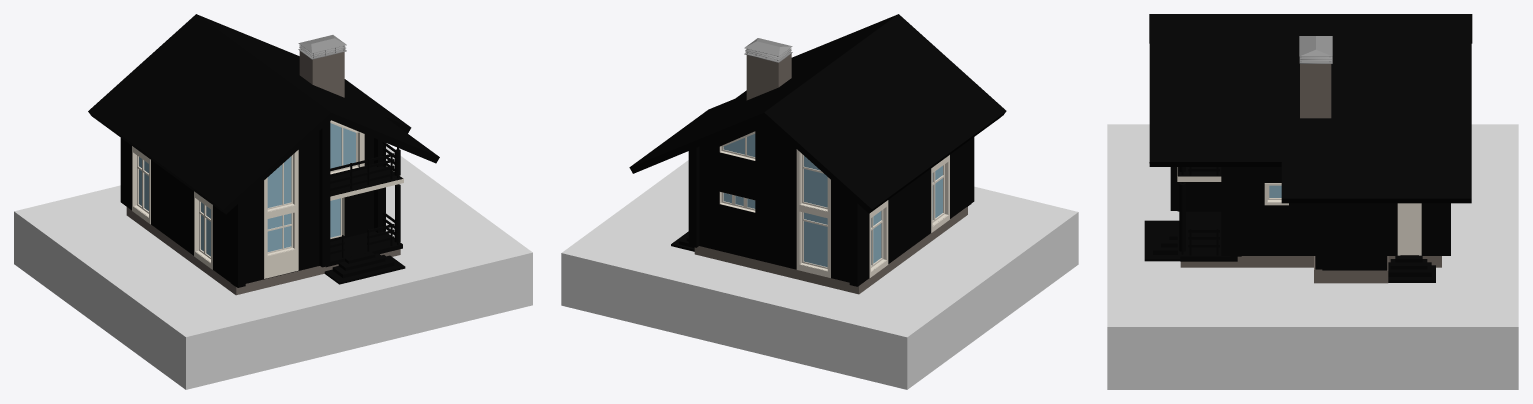
Rendered from Коттедж4.FBX.
The picture shows the model from 3 angles, left to right: view 1: azimuth 30°, elevation 25°; view 2: azimuth 150°, elevation 25°; view 3: azimuth 270°, elevation 25°; orthographic projection. The views are drawn at different scales.
Visible parts, largest first — view 1: Box177, Line150, Line344, Line16, Line38, Line183, Line12, Line322, Box171, Line23, Line281, Line287 (+12 smaller); view 2: Box177, Line150, Line02, Line344, Line16, Line285, Line75, Box171, Line334, Line318, Line319, Line41 (+7 smaller); view 3: Box177, Line150, Line344, Line05, Line301, Line317, Line287, Box171, Line146, Line279, Line294, Box17 (+10 smaller).
Boxes of the visible parts, bbox=[...] form: Box177: bbox=[14, 146, 532, 389]; Line150: bbox=[88, 14, 409, 169]; Line344: bbox=[168, 72, 439, 213]; Line16: bbox=[123, 139, 234, 283]; Line38: bbox=[231, 131, 319, 286]; Line183: bbox=[267, 156, 291, 251]; Line12: bbox=[264, 150, 298, 278]; Line322: bbox=[319, 121, 330, 267]; Box171: bbox=[299, 51, 344, 97]; Line23: bbox=[344, 134, 373, 237]; Line281: bbox=[330, 123, 355, 237]; Line287: bbox=[326, 231, 402, 267]; Box177: bbox=[561, 160, 1078, 389]; Line150: bbox=[629, 54, 951, 208]; Line02: bbox=[699, 120, 849, 282]; Line344: bbox=[736, 14, 1005, 150]; Line16: bbox=[860, 142, 968, 283]; Line285: bbox=[804, 156, 827, 267]; Line75: bbox=[694, 246, 858, 294]; Box171: bbox=[746, 54, 791, 100]; Line334: bbox=[796, 149, 830, 277]; Line318: bbox=[688, 147, 699, 247]; Line319: bbox=[849, 197, 864, 286]; Line41: bbox=[859, 207, 967, 294]; Box177: bbox=[1107, 124, 1518, 389]; Line150: bbox=[1282, 14, 1471, 203]; Line344: bbox=[1149, 14, 1281, 162]; Line05: bbox=[1241, 167, 1444, 255]; Line301: bbox=[1315, 203, 1387, 270]; Line317: bbox=[1221, 167, 1241, 255]; Line287: bbox=[1180, 211, 1237, 261]; Box171: bbox=[1300, 64, 1331, 118]; Line146: bbox=[1230, 255, 1441, 267]; Line279: bbox=[1178, 182, 1221, 211]; Line294: bbox=[1314, 270, 1387, 283]; Box17: bbox=[1400, 203, 1418, 254].
Bounding box in the file's own units: 17408 × 11780 × 14938.
